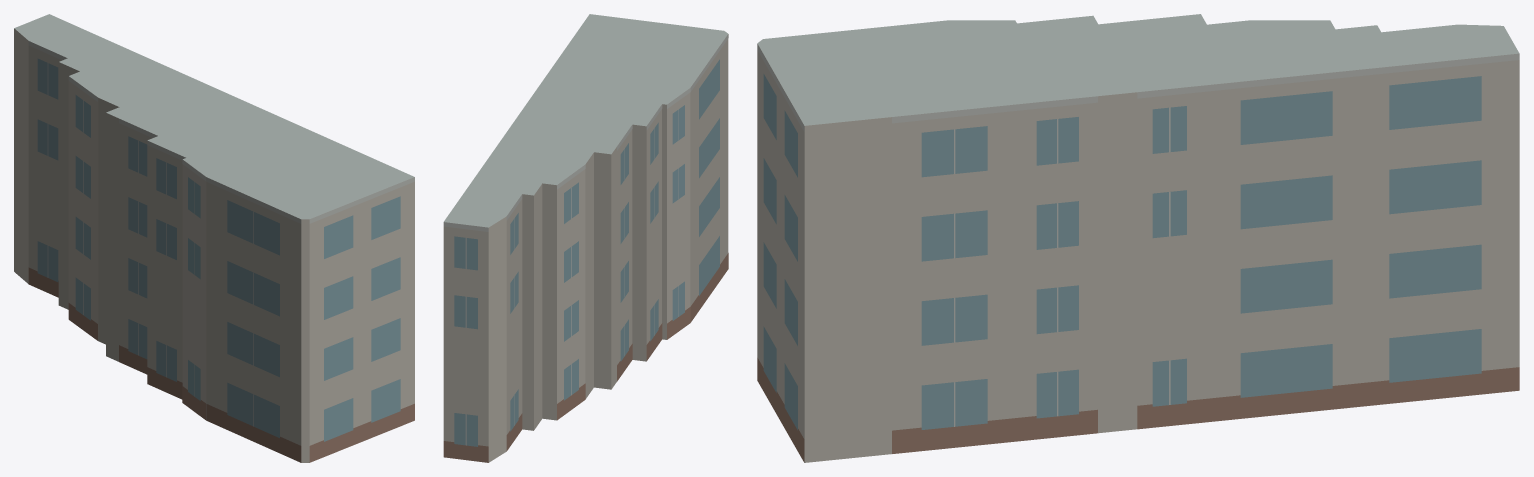
File: survey-upis-32705759.glb
The picture shows the model from 3 angles, left to right: view 1: azimuth 30°, elevation 25°; view 2: azimuth 150°, elevation 25°; view 3: azimuth 270°, elevation 25°; orthographic projection. The views are drawn at different scales.
Visible parts, largest first — view 1: survey-upis-32705759.tmp; view 2: survey-upis-32705759.tmp; view 3: survey-upis-32705759.tmp.
Part boxes in pixels (bbox=[...]): survey-upis-32705759.tmp: bbox=[14, 14, 414, 462]; survey-upis-32705759.tmp: bbox=[443, 14, 728, 462]; survey-upis-32705759.tmp: bbox=[757, 14, 1519, 462].
Size of the model in its own units: 9.12 by 12.8 by 26.25.
